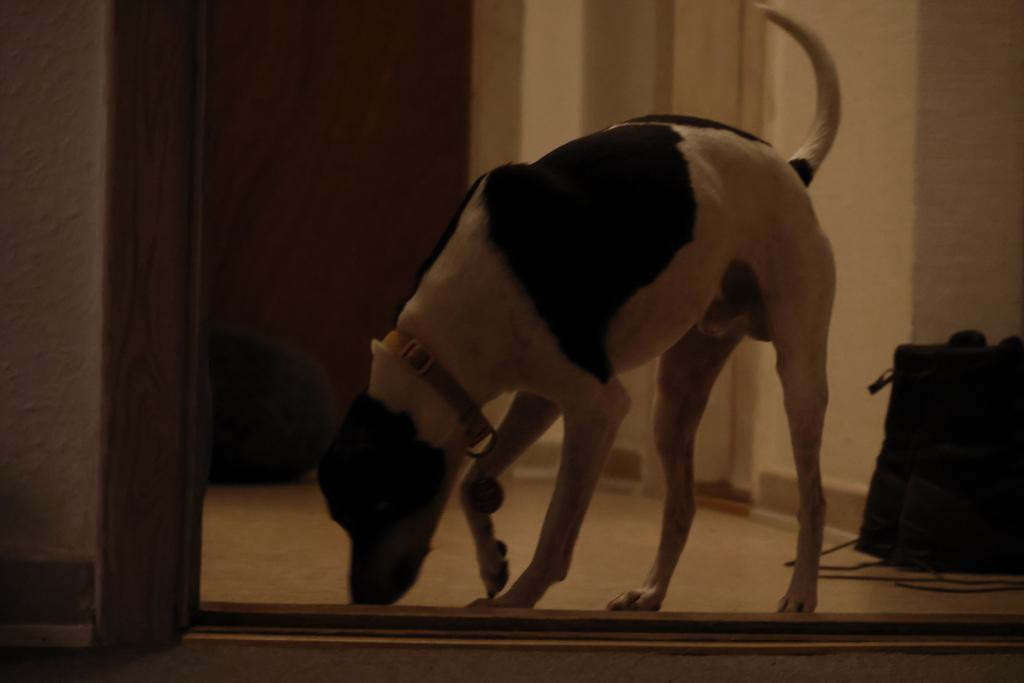Dog: (283, 0, 859, 623)
